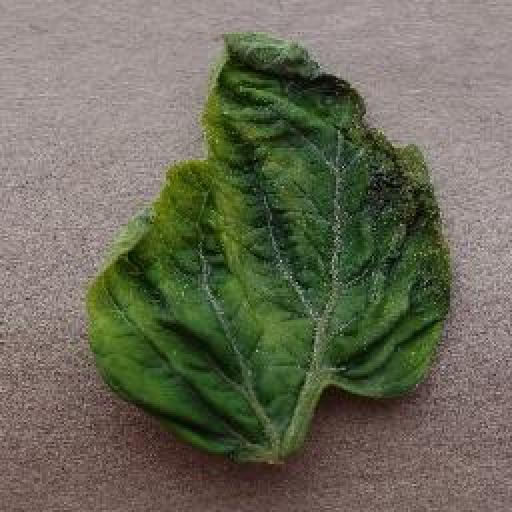disease_tomato: (88, 29, 451, 464)
